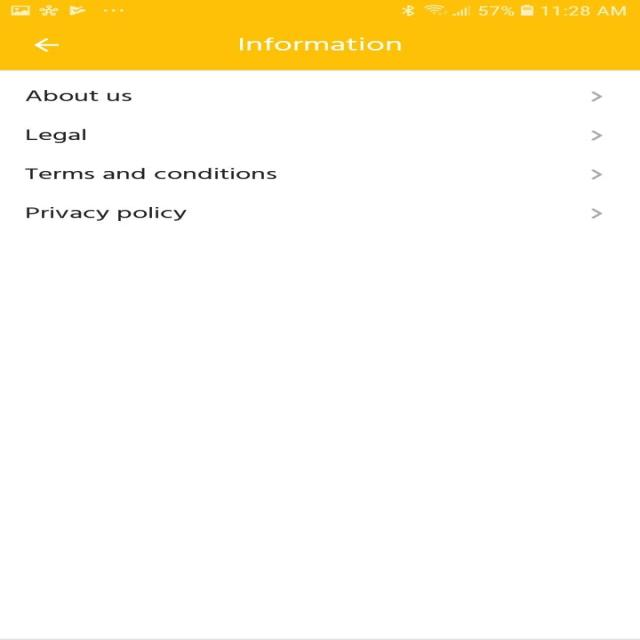Icon: (33, 37, 59, 52), (590, 91, 603, 102), (590, 169, 603, 180), (589, 130, 603, 140), (589, 208, 602, 218)
Text: (23, 168, 276, 180), (25, 206, 186, 221), (239, 37, 402, 51), (26, 89, 132, 102), (26, 129, 86, 144)
